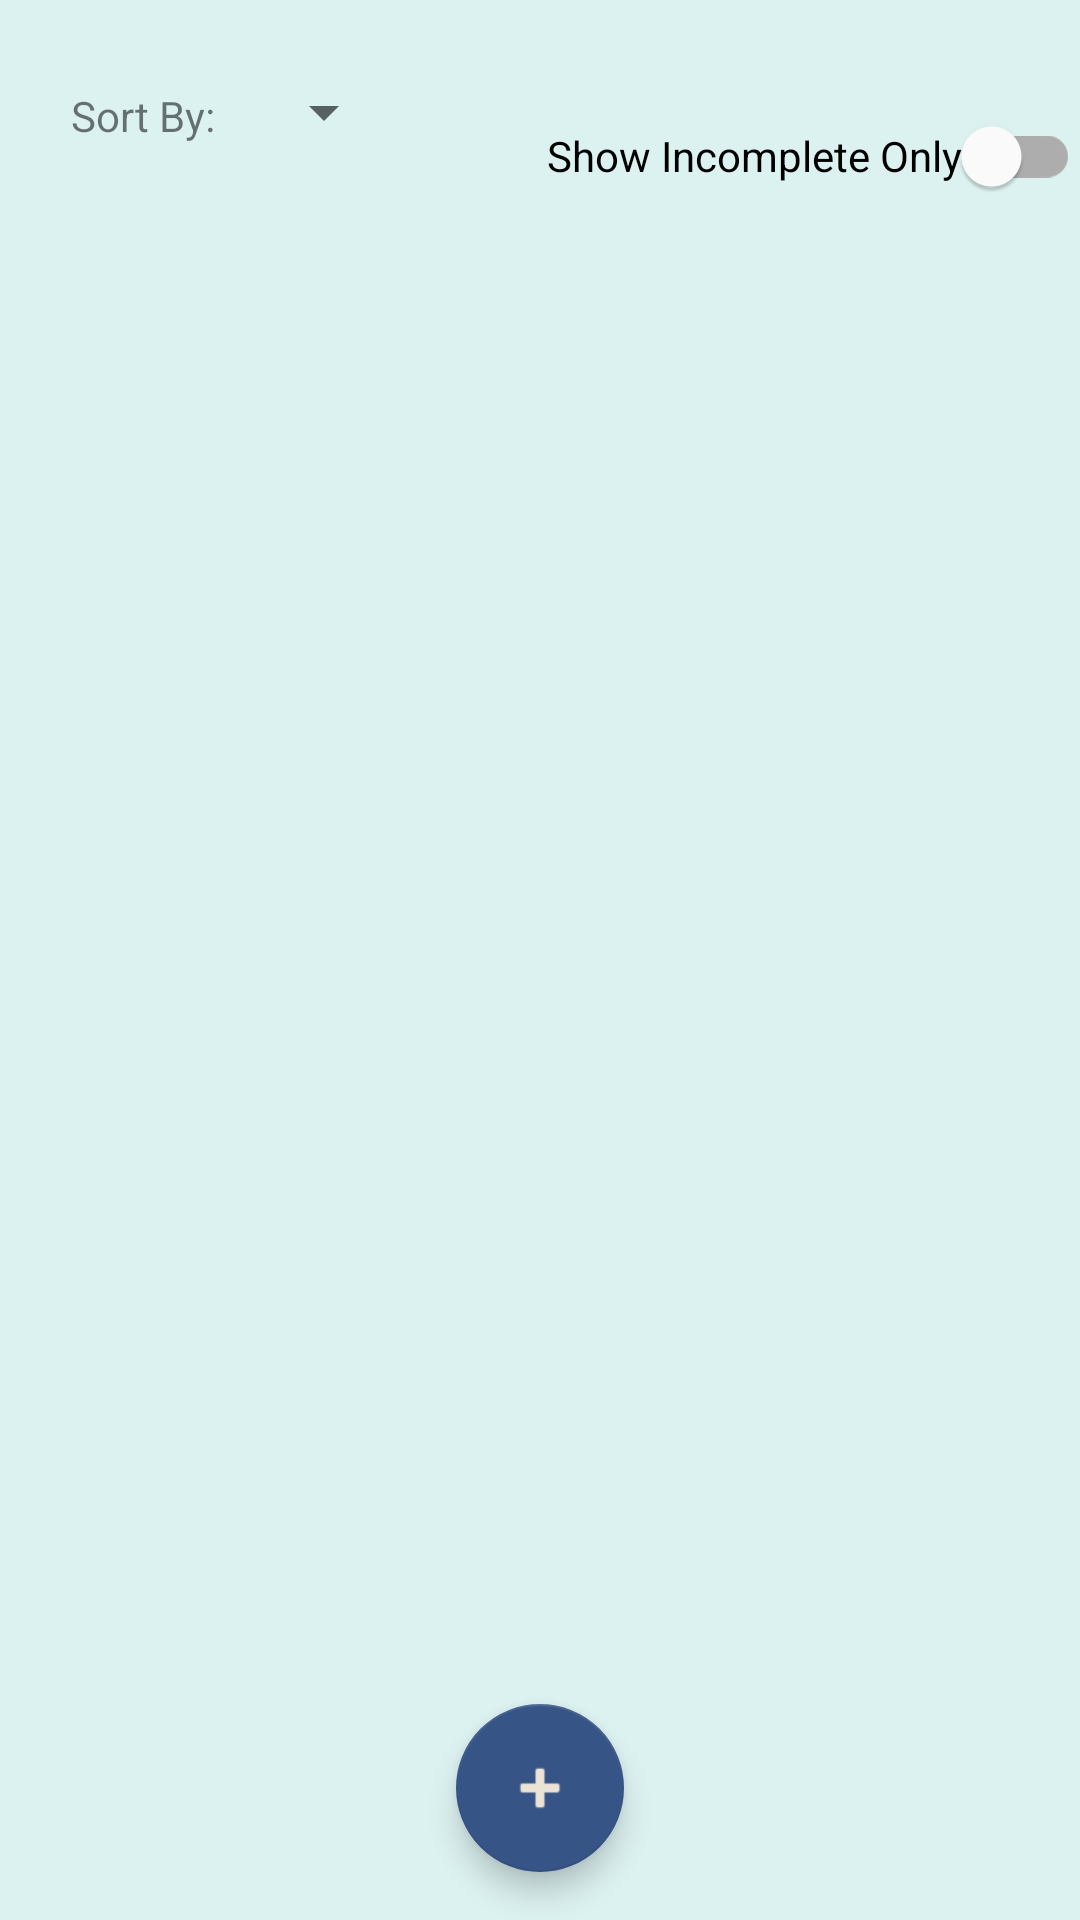

Where to tap for icons on this 1080x1920 app screen, as [x,y]:
Add Assignment: [540,1788]
